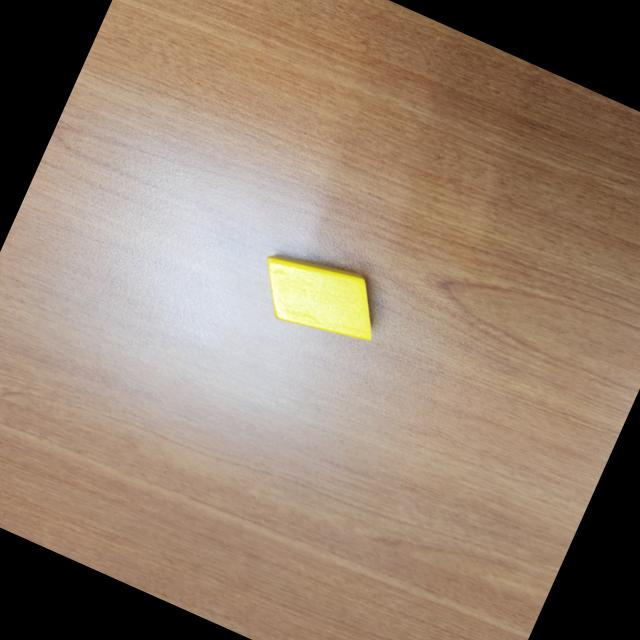yellow: (246, 236, 398, 359)
